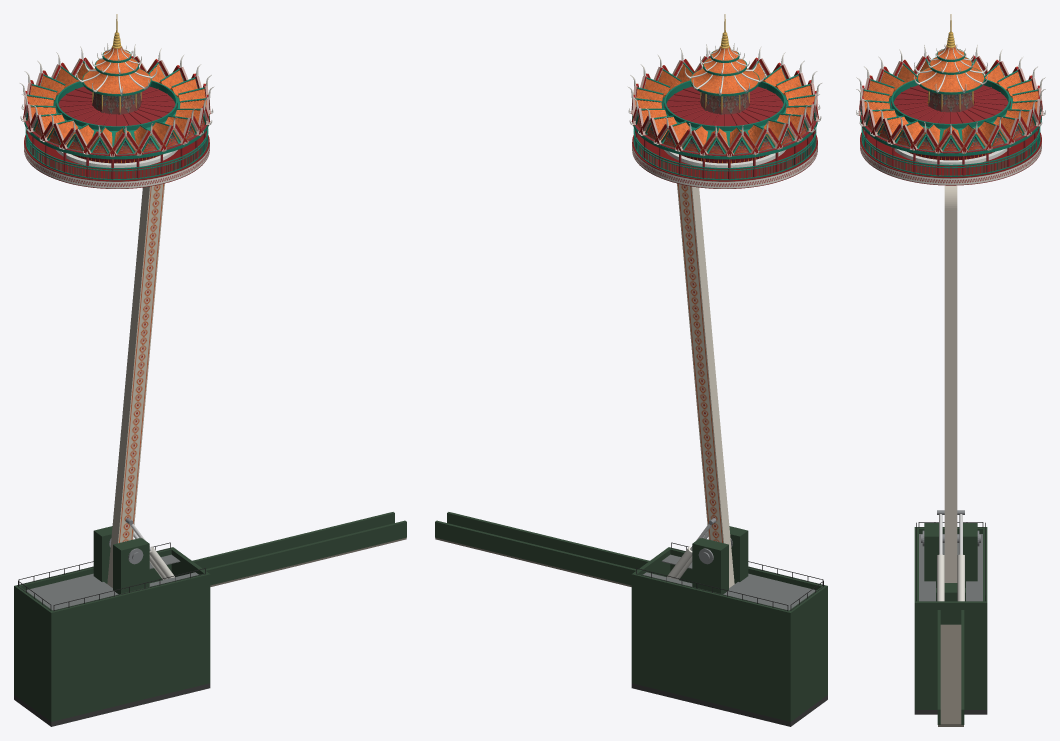
File: AR_Pagode_gondel.fbx
The picture shows the model from 3 angles, left to right: view 1: azimuth 30°, elevation 25°; view 2: azimuth 150°, elevation 25°; view 3: azimuth 270°, elevation 25°; orthographic projection. The views are drawn at different scales.
Visible parts, largest first — view 1: PG_beton_groen_0, PG_pannen_0, PG_arm_0, PG_groen_0, PG_sierrand_0, PG_rood_0, PG_windveer_0, PG_armzijde_0, PG_rooster_0, PG_groen_1, PG_beton_donker_0, PG_trommel_0 (+3 smaller); view 2: PG_beton_groen_0, PG_pannen_0, PG_arm_0, PG_groen_0, PG_sierrand_0, PG_rood_0, PG_windveer_0, PG_armzijde_0, PG_rooster_0, PG_beton_donker_0, PG_groen_1, PG_trommel_0 (+4 smaller); view 3: PG_beton_groen_0, PG_pannen_0, PG_armzijde_0, PG_groen_0, PG_sierrand_0, PG_rood_0, PG_windveer_0, PG_grind_0, PG_rooster_0, PG_sierveld_0, PG_trommel_0, PG_wit_glans_0 (+6 smaller).
Boxes of the visible parts, box(x1,y1,x2,y2) form: PG_beton_groen_0: box(14, 512, 406, 721); PG_pannen_0: box(27, 46, 206, 151); PG_arm_0: box(118, 183, 164, 543); PG_groen_0: box(24, 50, 209, 180); PG_sierrand_0: box(24, 134, 209, 188); PG_rood_0: box(25, 86, 209, 179); PG_windveer_0: box(23, 56, 210, 156); PG_armzijde_0: box(107, 186, 149, 587); PG_rooster_0: box(26, 554, 198, 610); PG_groen_1: box(26, 136, 207, 178); PG_beton_donker_0: box(14, 683, 210, 726); PG_trommel_0: box(92, 92, 141, 114); PG_beton_groen_0: box(435, 512, 827, 721); PG_pannen_0: box(635, 46, 814, 151); PG_arm_0: box(677, 183, 723, 543); PG_groen_0: box(632, 50, 817, 180); PG_sierrand_0: box(632, 134, 817, 188); PG_rood_0: box(632, 86, 816, 179); PG_windveer_0: box(631, 56, 818, 156); PG_armzijde_0: box(692, 186, 734, 587); PG_rooster_0: box(643, 554, 815, 610); PG_beton_donker_0: box(631, 683, 827, 726); PG_groen_1: box(643, 137, 815, 178); PG_trommel_0: box(700, 92, 749, 114); PG_beton_groen_0: box(914, 523, 987, 724); PG_pannen_0: box(863, 45, 1038, 148); PG_armzijde_0: box(944, 185, 957, 582); PG_groen_0: box(860, 49, 1041, 176); PG_sierrand_0: box(860, 131, 1041, 185); PG_rood_0: box(860, 85, 1041, 175); PG_windveer_0: box(858, 56, 1043, 153); PG_grind_0: box(938, 624, 963, 726); PG_rooster_0: box(919, 534, 982, 601); PG_sierveld_0: box(867, 119, 1034, 151); PG_trommel_0: box(928, 91, 973, 112); PG_wit_glans_0: box(937, 554, 964, 601).
Bounding box in the file's own units: 38.86 × 68.5 × 17.73.
